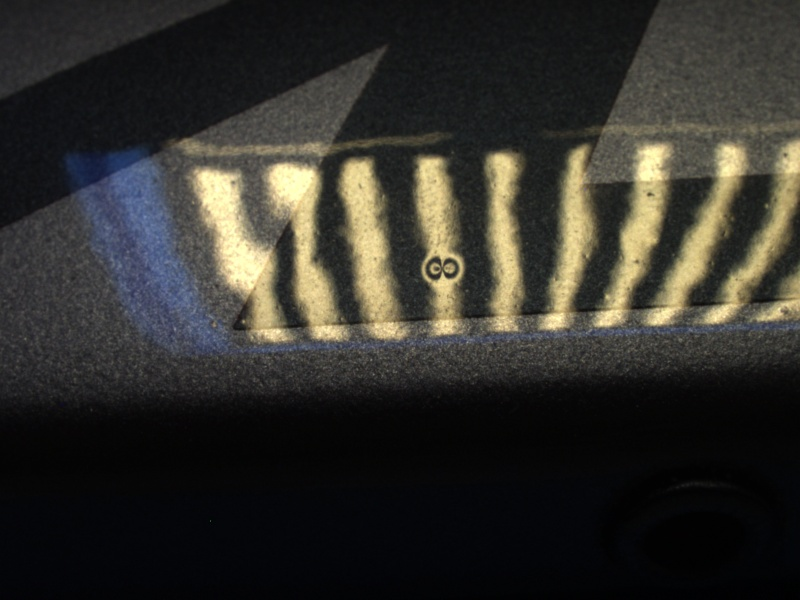bad: (417, 242, 473, 292)
